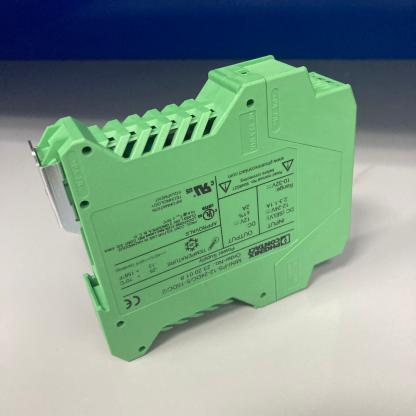SP0000011: (23, 28, 384, 370)
